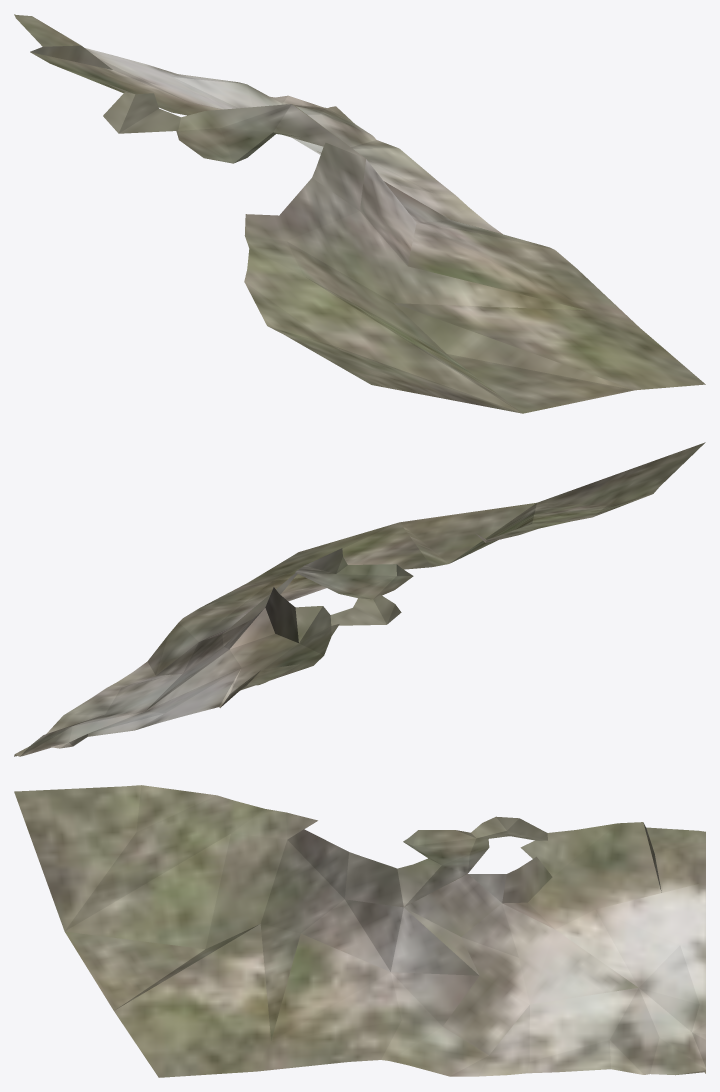
3 renders of one model, top to bottom at view 1: azimuth 30°, elevation 25°; view 2: azimuth 150°, elevation 25°; view 3: azimuth 270°, elevation 25°, orthographic. The views are drawn at different scales.
Size of the model in its own units: 3.06 by 1.15 by 5.51.
Materials: 1 (1 with a texture image).
